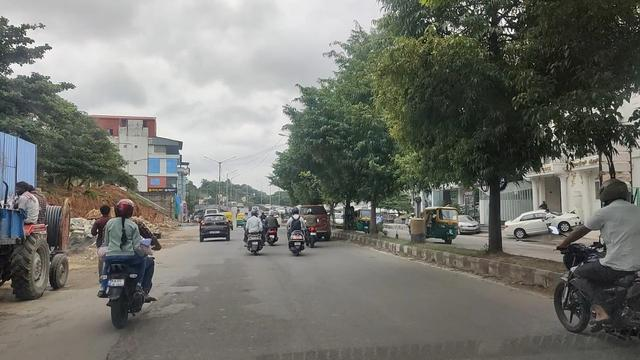LMV: (571, 196, 640, 342), (101, 196, 148, 303), (200, 212, 228, 246), (292, 207, 309, 255), (264, 209, 282, 250), (251, 219, 263, 255)
RoadDamages: (149, 272, 216, 329), (94, 314, 143, 360)
